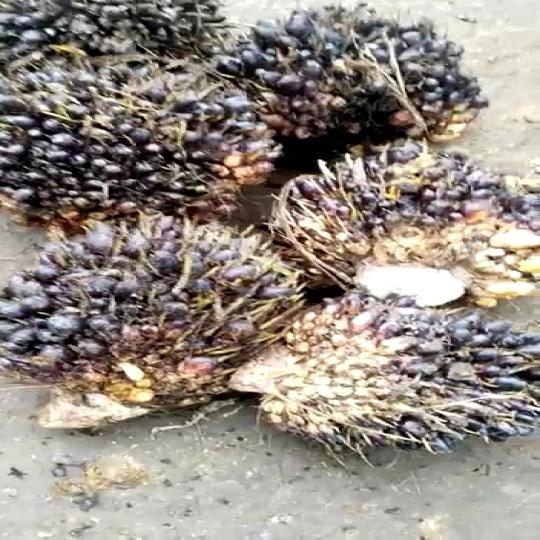mentah: (0, 221, 309, 432), (240, 299, 540, 464), (0, 55, 275, 224), (228, 2, 506, 151), (267, 152, 540, 299)
